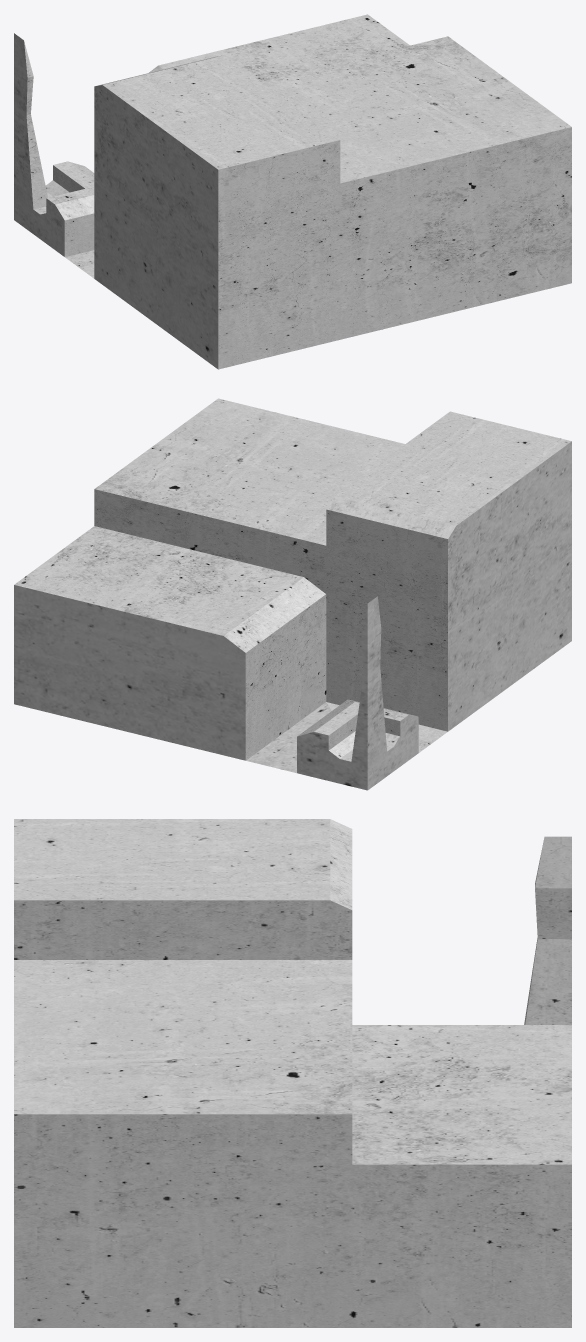
File: fountaintile2glb.glb
3 views of the same model, one above another, from view 1: azimuth 30°, elevation 25°; view 2: azimuth 150°, elevation 25°; view 3: azimuth 270°, elevation 25° (orthographic). The views are drawn at different scales.
Parts seen in each view (by area): view 1: Plane.004; view 2: Plane.004; view 3: Plane.004.
Part boxes in pixels (bbox=[...]): Plane.004: bbox=[14, 14, 571, 369]; Plane.004: bbox=[14, 398, 571, 790]; Plane.004: bbox=[14, 819, 571, 1327].
Size of the model in its own units: 2 by 1.08 by 2.
1 material, 1 textured.
